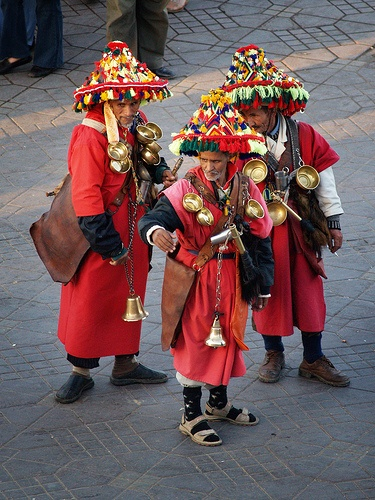head: (234, 102, 280, 137), (198, 145, 228, 185), (110, 99, 140, 127)
person: (35, 44, 176, 406), (137, 102, 276, 455), (212, 44, 351, 391)
